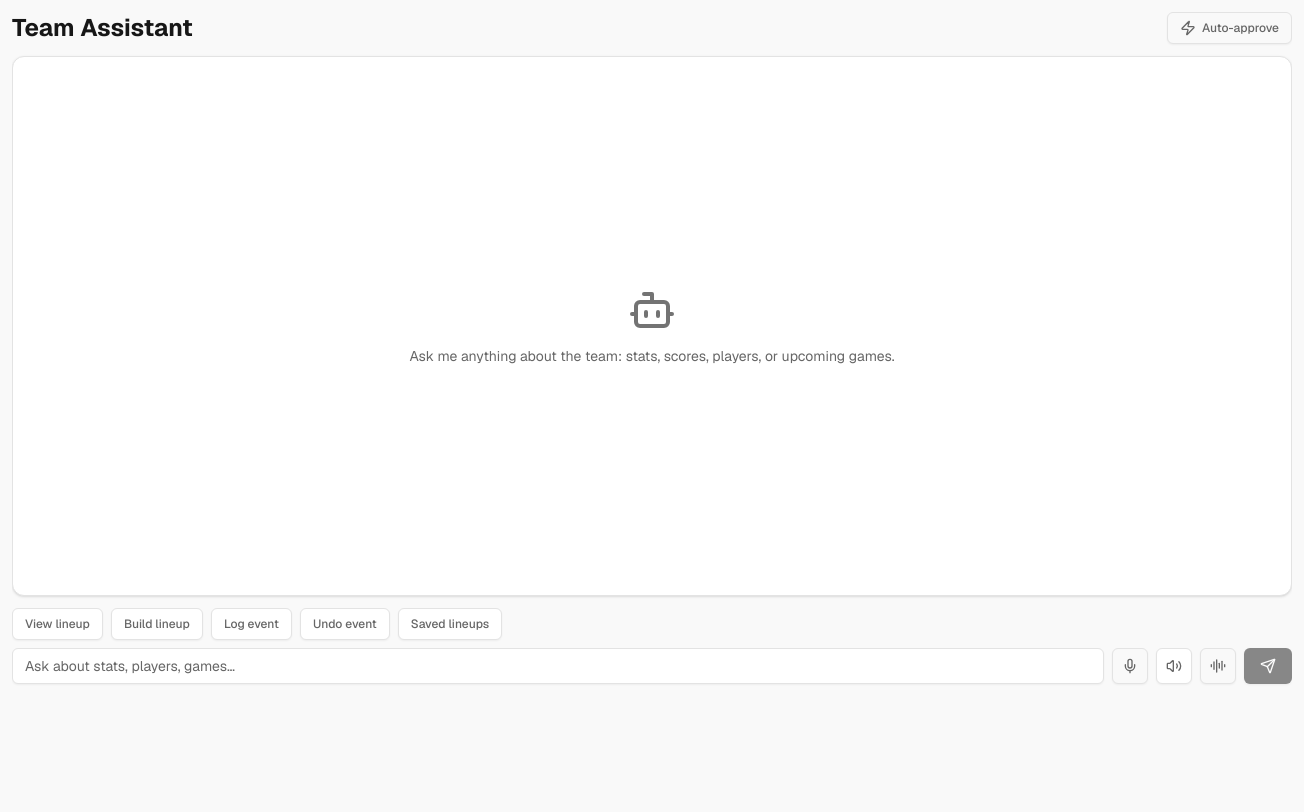
Chat inline proposal cards › settles with the server error on a terminal confirm failure (410 expired)
Check: the text "Ask me anything about the team" is shown, box x1=409 y1=347 x2=895 y2=365
In the field with placeholder "Ask about stats, players, games…": (558,666) x1=12 y1=648 x2=1104 y2=684, type "put maya on line 1"
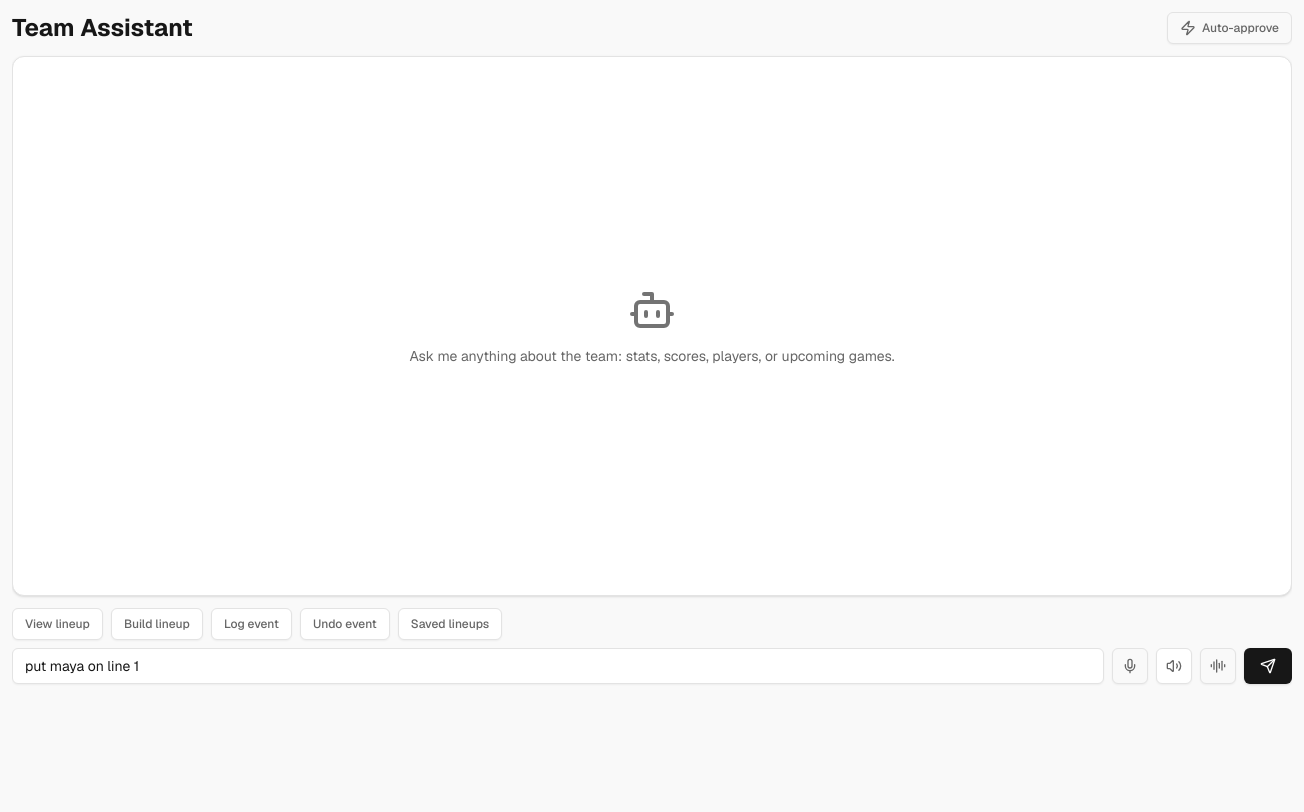
Press Enter in the field with placeholder "Ask about stats, players, games…", box x1=12 y1=648 x2=1104 y2=684
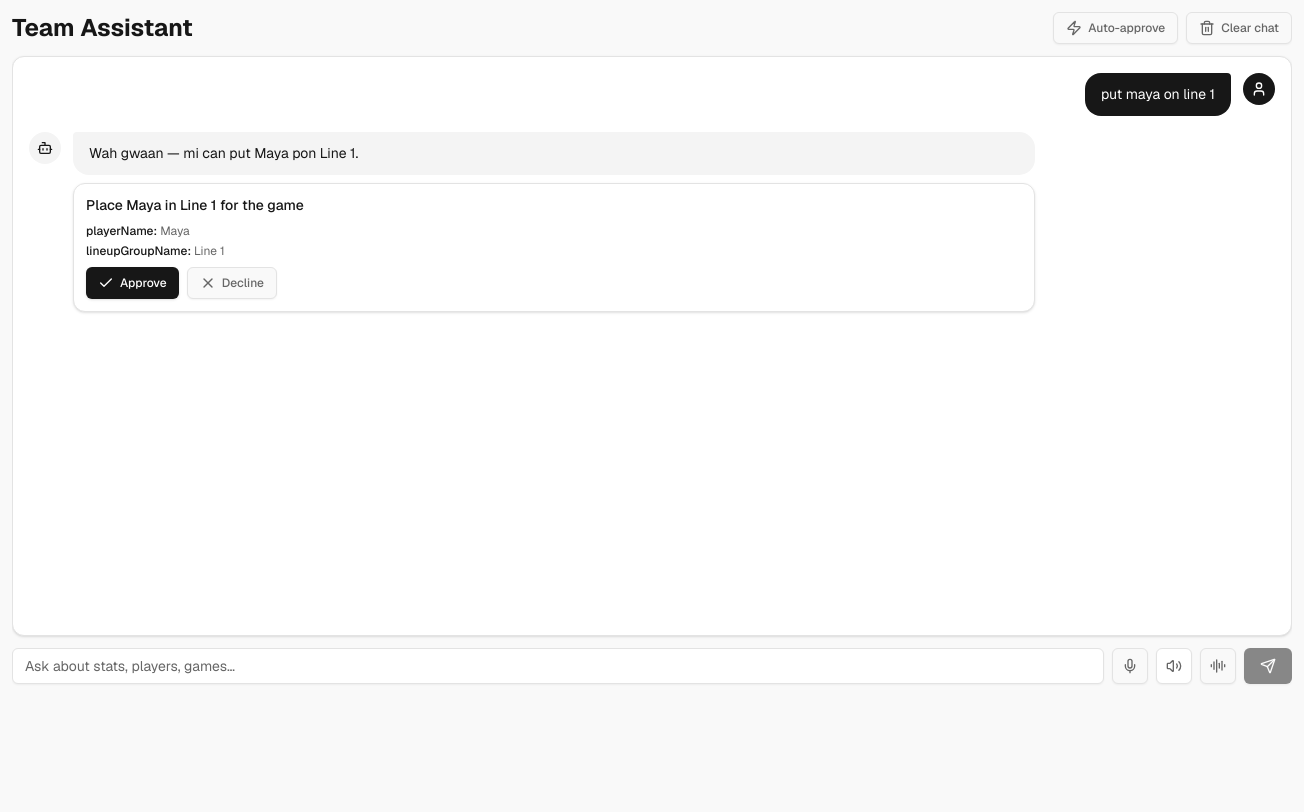
Check: the button "Approve" is shown
Click the button "Approve": (132,283) x1=86 y1=267 x2=179 y2=299
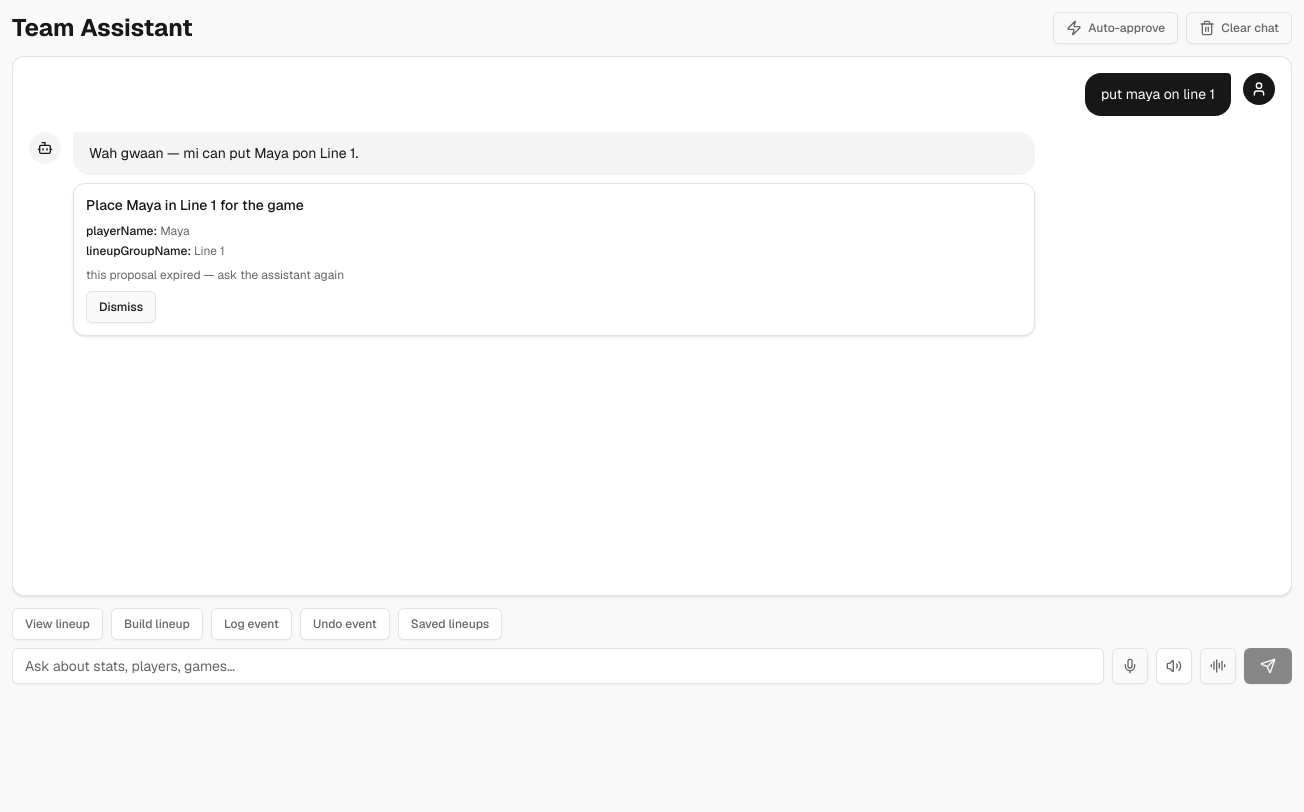
Check: the text "this proposal expired — ask the assistant again" is shown, box x1=86 y1=267 x2=344 y2=283
